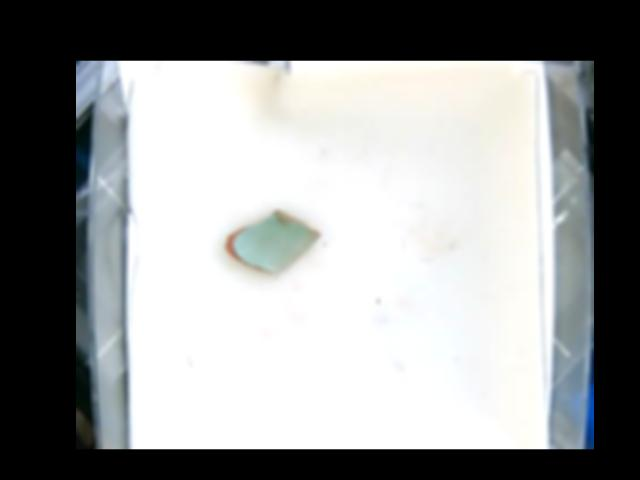China: (224, 208, 317, 272)
